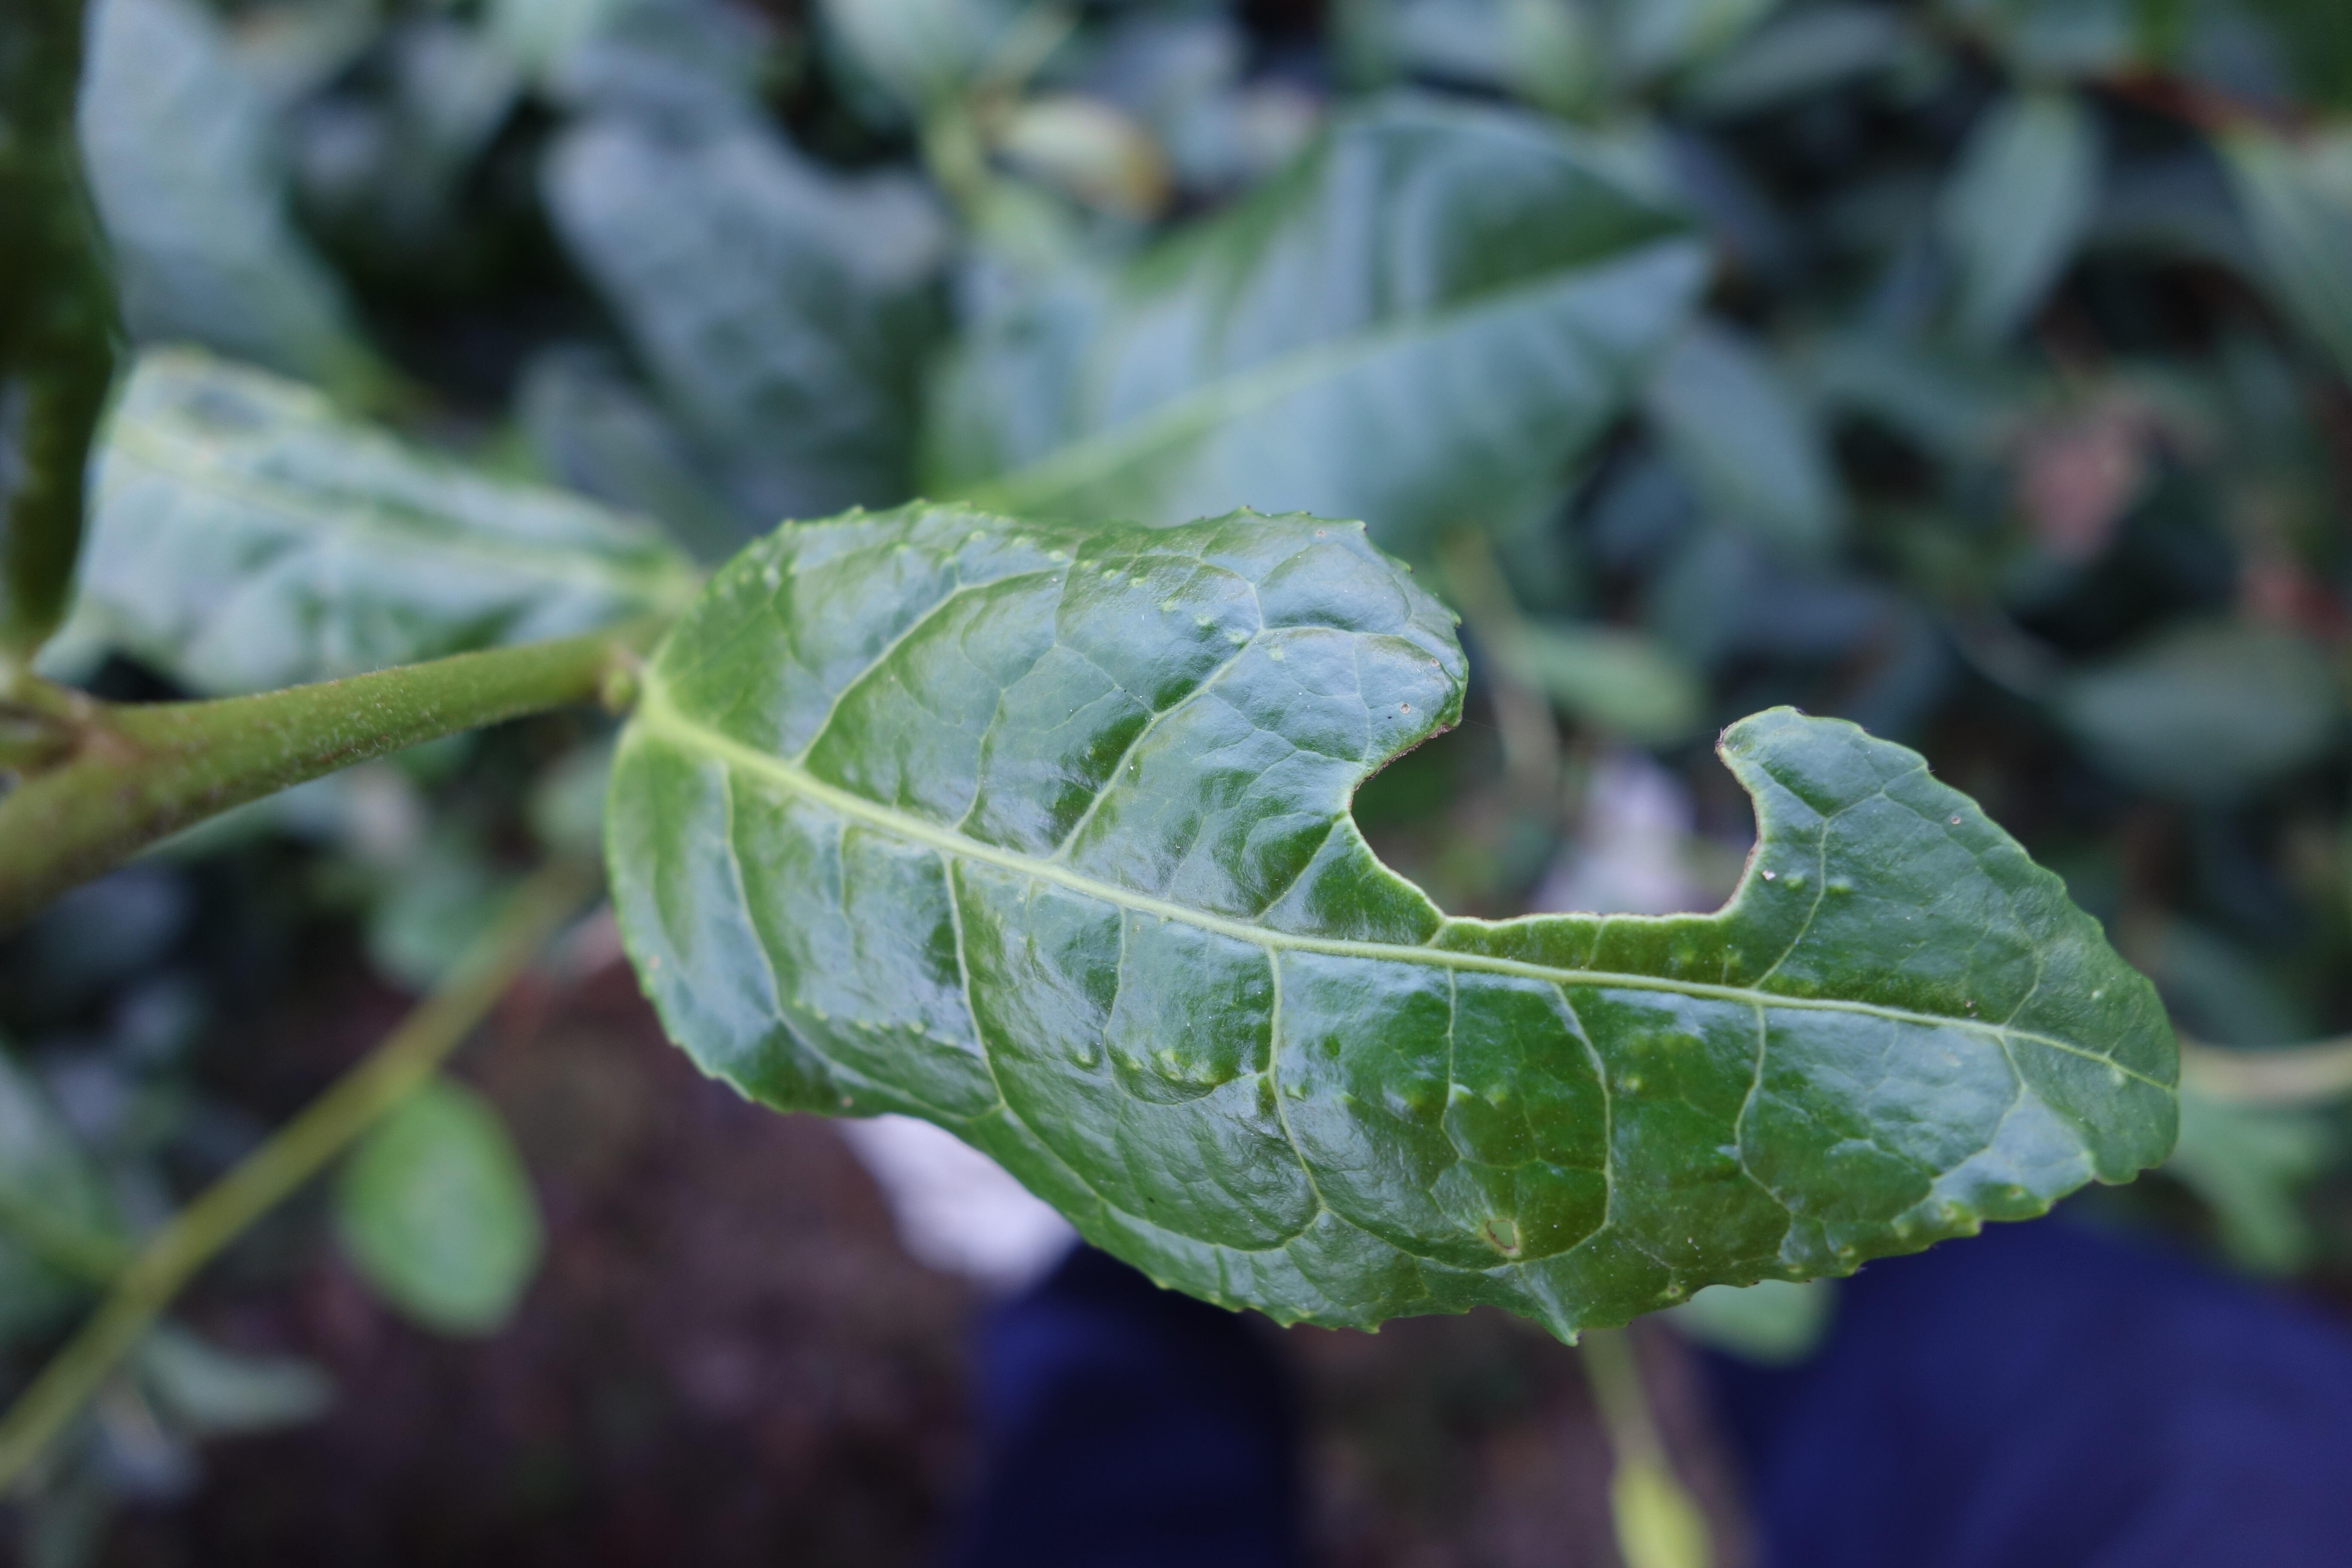chihuo_low: (595, 499, 2180, 1346)
